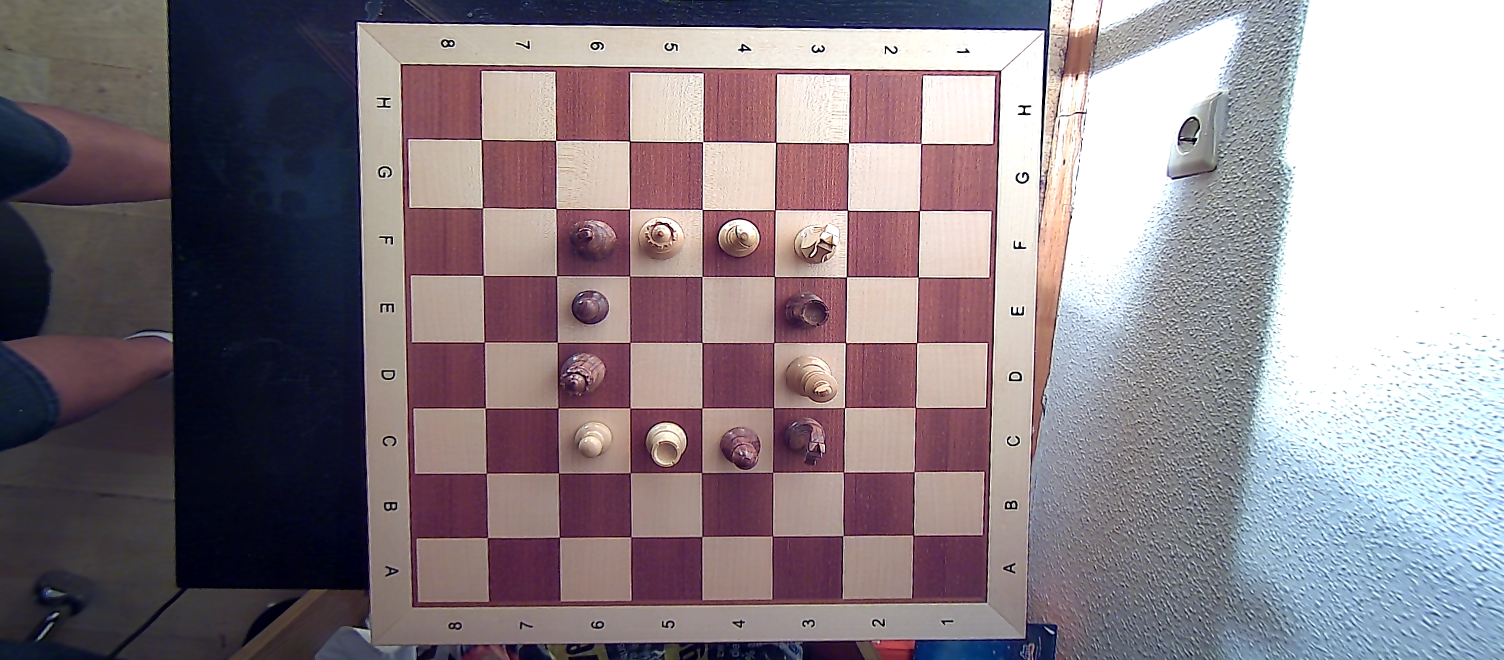black-bishop: (717, 422, 768, 470)
black-king: (565, 215, 623, 267)
black-knight: (783, 416, 834, 472)
black-pawn: (566, 285, 612, 328)
black-queen: (562, 345, 608, 401)
black-rook: (779, 288, 833, 337)
white-bishop: (712, 213, 763, 267)
white-king: (781, 353, 840, 410)
white-knight: (789, 220, 841, 265)
white-pawn: (569, 416, 617, 462)
white-queen: (637, 215, 684, 265)
white-rook: (639, 420, 691, 469)
